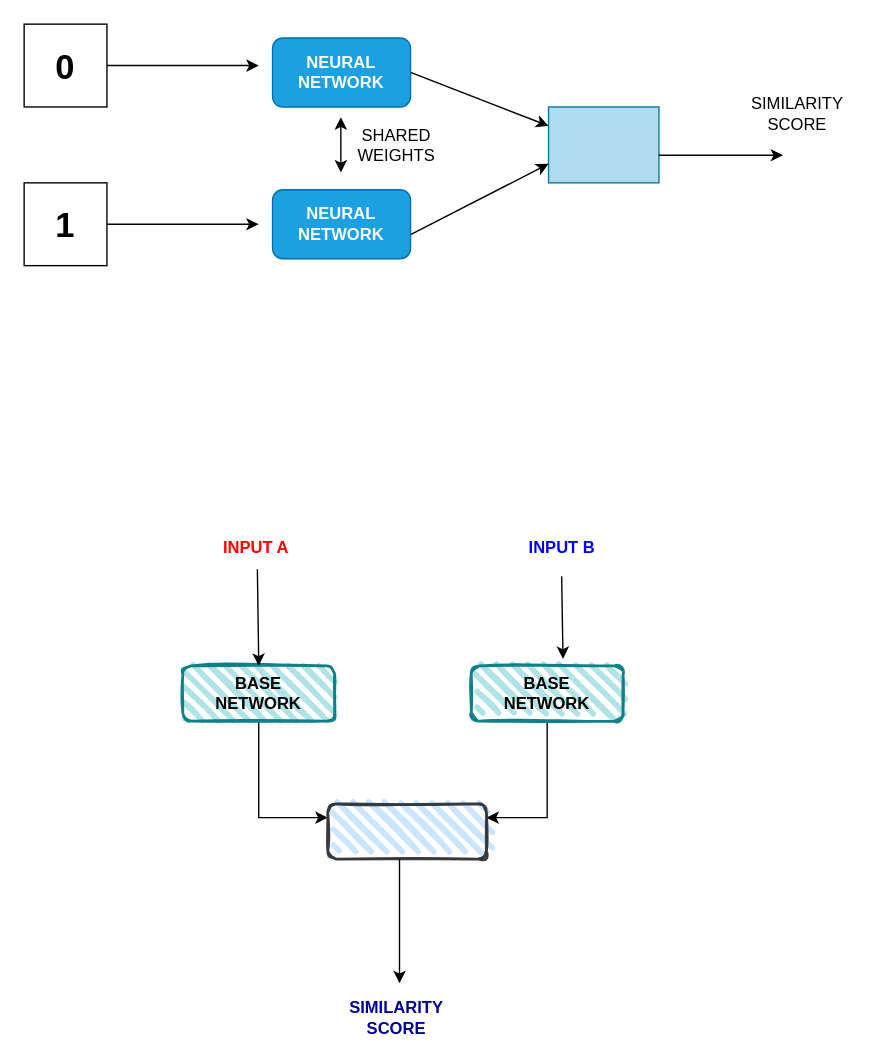
This 883x1063 diagram has some shape labels left out. Here are the shapes that lost their labels. From the top down, the box of each, then its label:
(547, 106, 659, 183): DISTANCE
(326, 802, 487, 860): EUCLIDEAN DISTANCE
